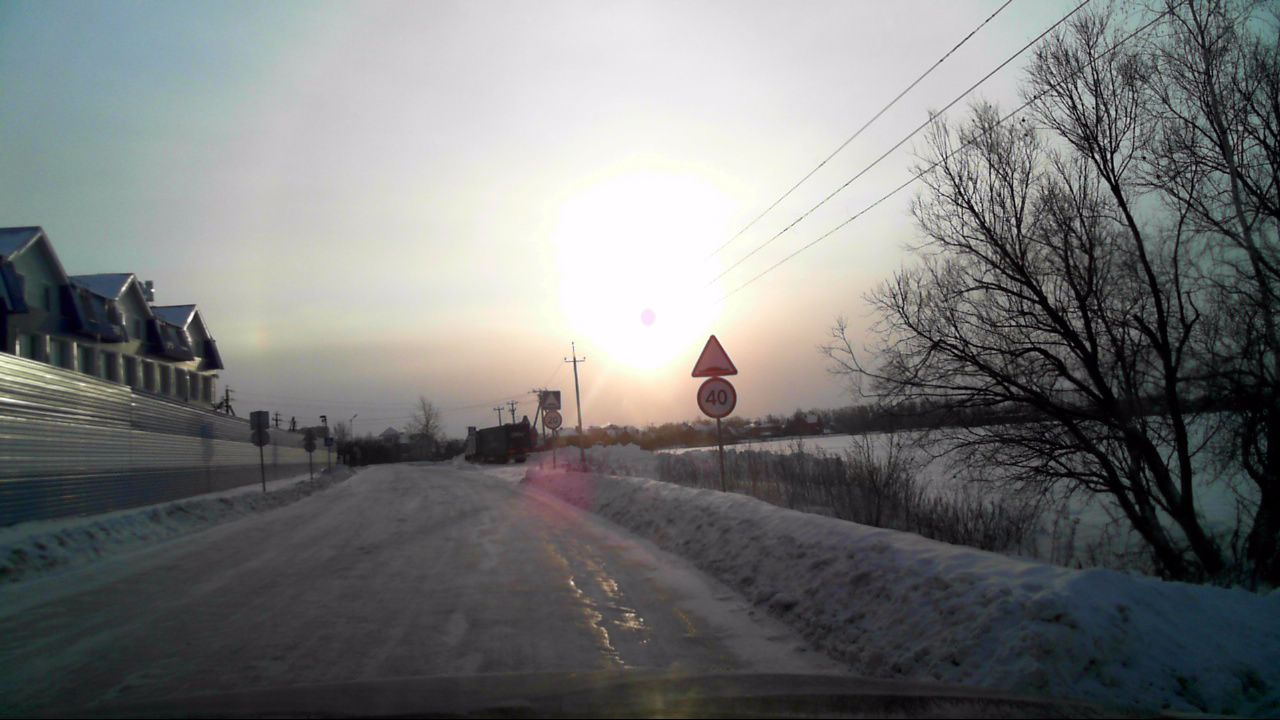speed_warning_40: (697, 379, 736, 418)
